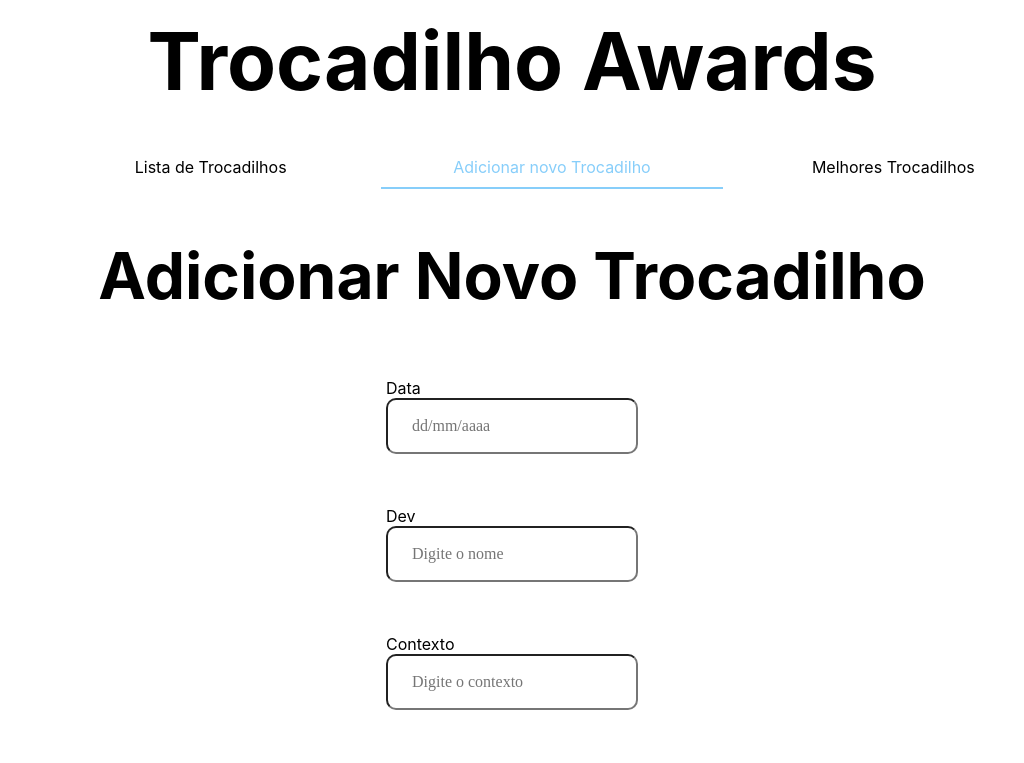
Test: <App /> › navigates to the RankingPage when the 'melhores trocadilhos' link is clicked
This screenshot has width=1024, height=763.
Click the tab "Melhores Trocadilhos" at (893, 173), box [812, 157, 975, 189]
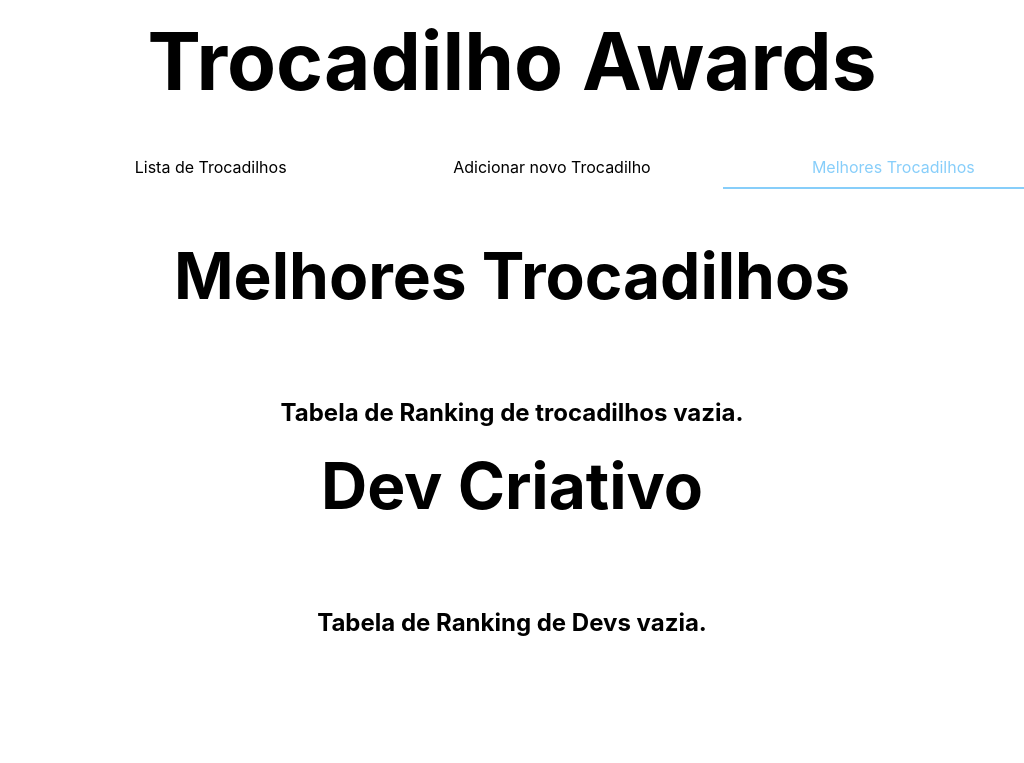
Result: the heading "Melhores Trocadilhos" is shown at [174, 237, 850, 314]
